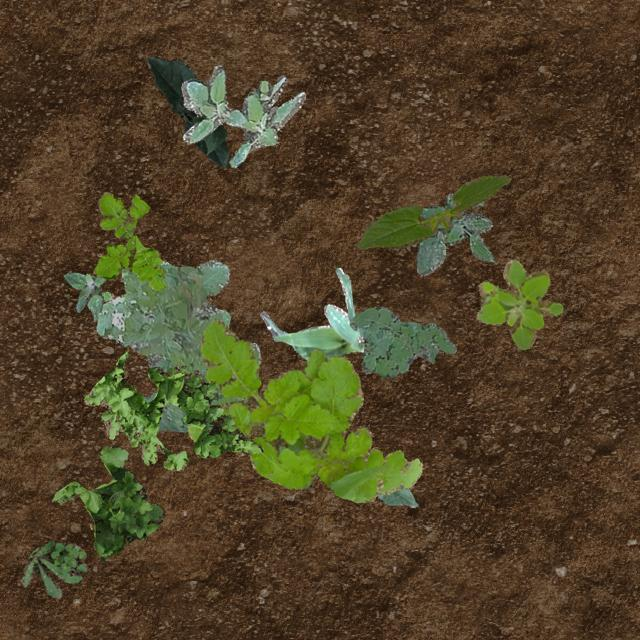crop: (356, 175, 511, 248), (258, 266, 362, 360), (146, 54, 228, 166), (376, 484, 418, 506)
weed: (186, 318, 422, 502), (96, 258, 260, 432), (82, 350, 262, 470), (52, 444, 164, 560), (180, 64, 304, 166), (348, 306, 456, 378), (476, 258, 562, 348), (94, 190, 166, 290), (415, 192, 493, 276), (19, 540, 86, 596), (62, 272, 104, 320), (100, 290, 114, 302)
